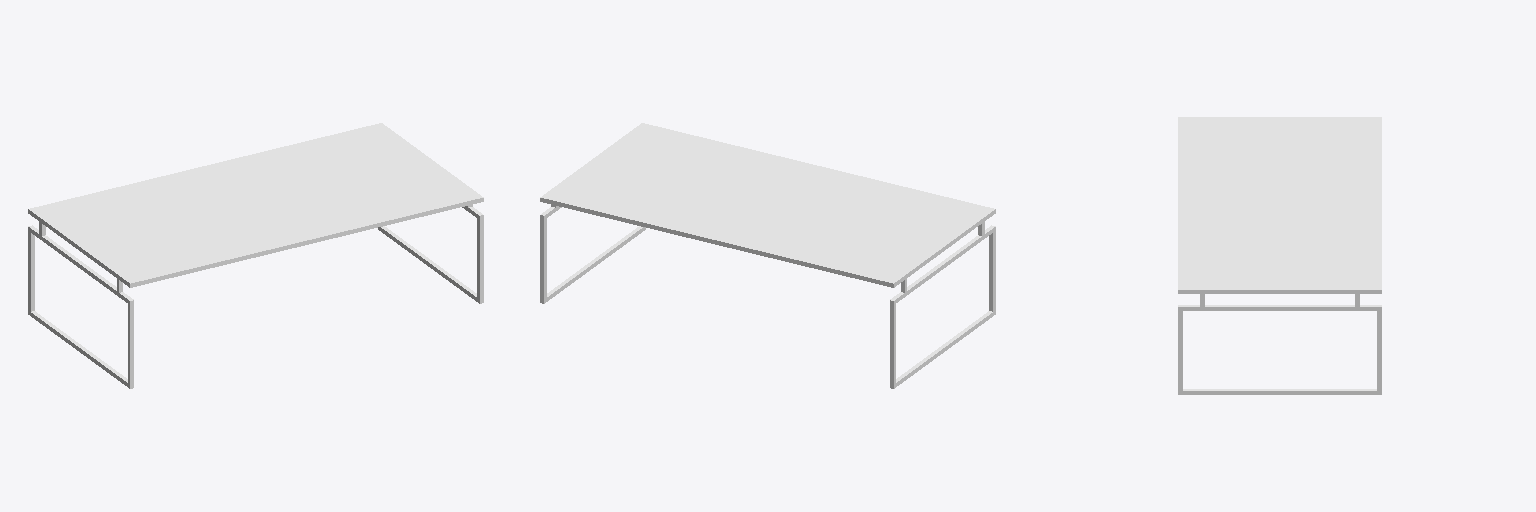
The model's file is MesaRetangular.obj.
3 renders of one model, left to right at view 1: azimuth 30°, elevation 25°; view 2: azimuth 150°, elevation 25°; view 3: azimuth 270°, elevation 25°, orthographic.
Parts seen in each view (by area): view 1: object 1; view 2: object 1; view 3: object 1.
Boxes of the visible parts, x1=… form: object 1: x1=28, y1=123, x2=483, y2=388; object 1: x1=540, y1=123, x2=995, y2=388; object 1: x1=1178, y1=117, x2=1381, y2=394.
Bounding box in the file's own units: 25.6 × 7.3 × 12.8.